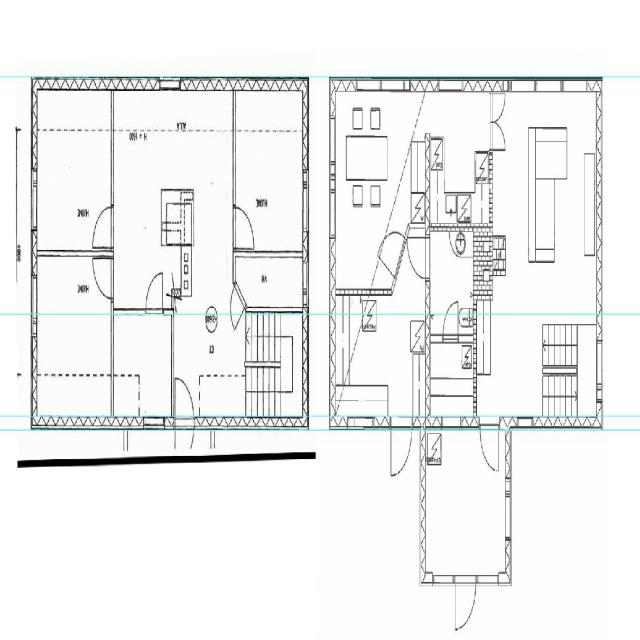door: (447, 568, 479, 632), (387, 419, 413, 481), (231, 199, 257, 253), (404, 228, 429, 281), (173, 370, 196, 425), (479, 417, 501, 474), (90, 203, 114, 253), (90, 252, 114, 300), (488, 105, 508, 155), (144, 266, 165, 311), (441, 299, 463, 337), (228, 282, 244, 332), (490, 86, 506, 134)
window: (176, 300, 211, 320)
zone: (112, 84, 235, 312), (489, 76, 604, 319), (329, 77, 420, 295), (33, 82, 112, 258), (424, 422, 506, 582), (234, 84, 308, 256), (328, 302, 423, 427), (599, 77, 640, 313), (428, 99, 490, 249), (111, 305, 173, 429), (425, 311, 476, 426), (429, 229, 475, 319)
